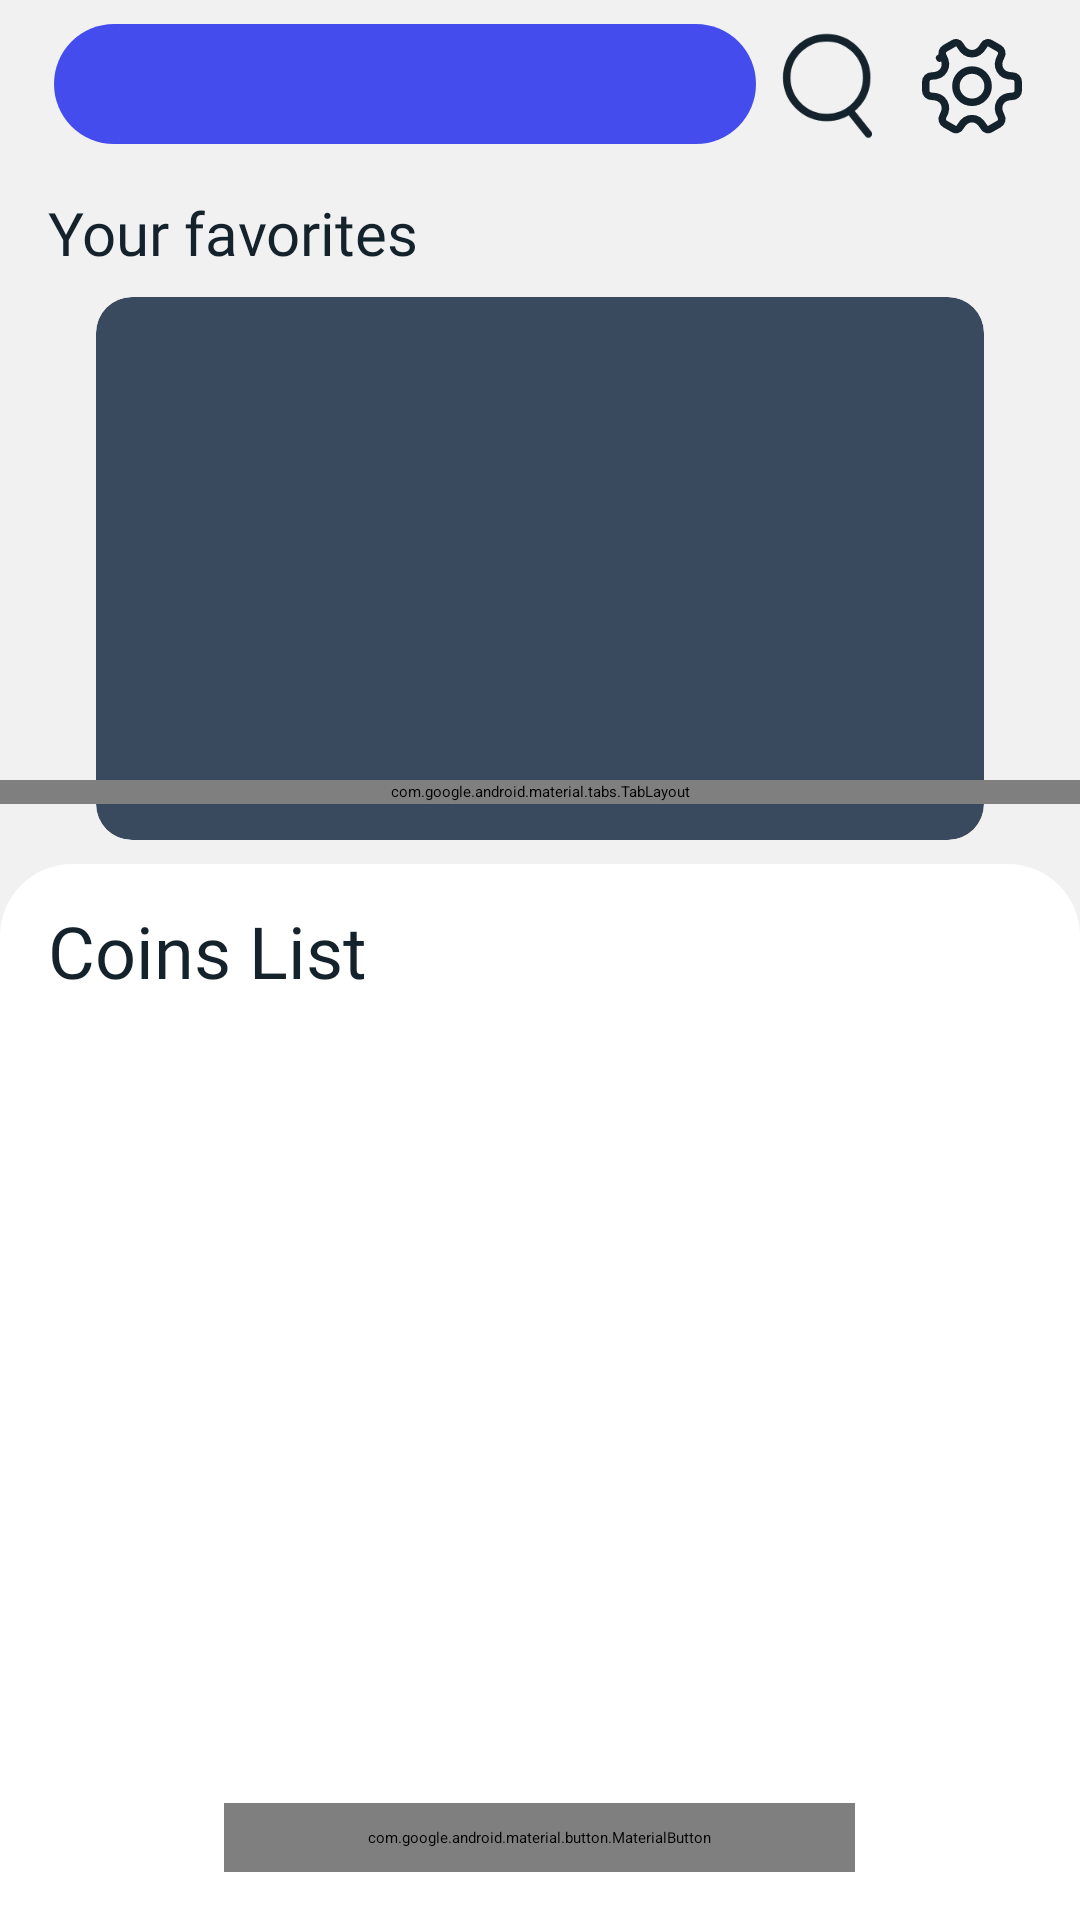

Icon click points for this 1080x1920 phone screenshot, format (x=x, y=y):
search: (x=827, y=85)
settings: (x=972, y=86)
